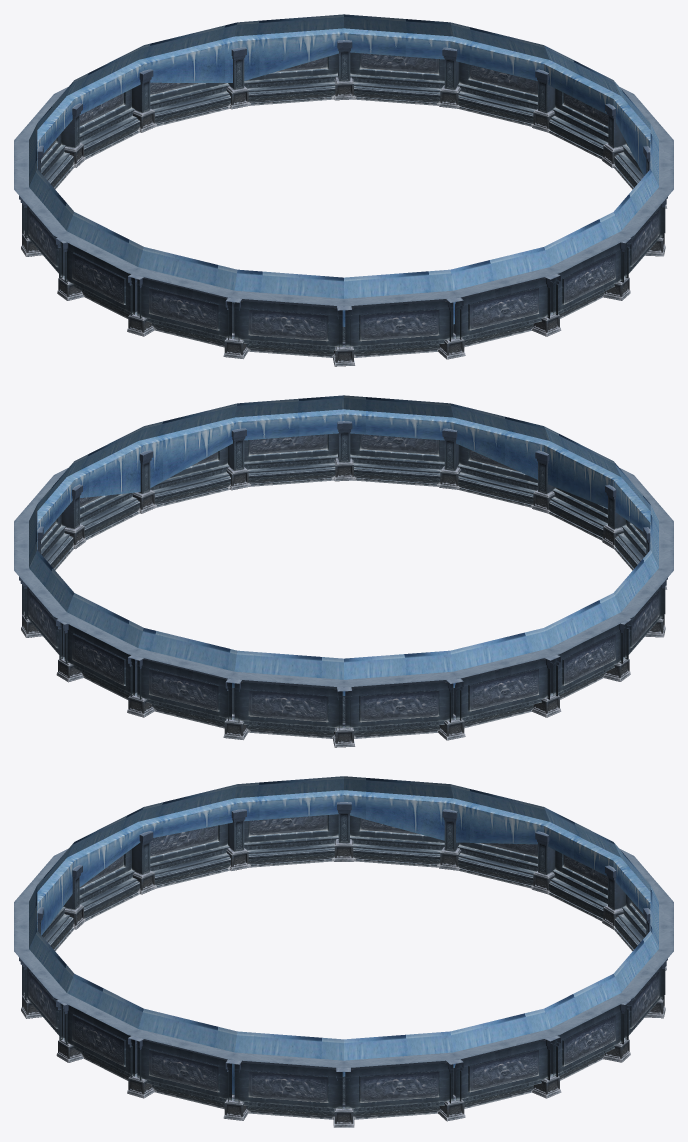
Rendered from BingYingZhong_QiangMian_1.FBX.
3 views of the same model, one above another, from view 1: azimuth 30°, elevation 25°; view 2: azimuth 150°, elevation 25°; view 3: azimuth 270°, elevation 25° (orthographic).
Parts seen in each view (by area): view 1: BingYingZhong_Qiang_2, BingYingZhong_Xue_1, BingYingZhong_ShiZhu_2; view 2: BingYingZhong_Qiang_2, BingYingZhong_Xue_1, BingYingZhong_ShiZhu_2; view 3: BingYingZhong_Qiang_2, BingYingZhong_Xue_1, BingYingZhong_ShiZhu_2.
Part boxes in pixels (x1=…): BingYingZhong_Qiang_2: x1=14, y1=40, x2=673, y2=357; BingYingZhong_Xue_1: x1=29, y1=14, x2=658, y2=326; BingYingZhong_ShiZhu_2: x1=21, y1=77, x2=666, y2=366; BingYingZhong_Qiang_2: x1=14, y1=421, x2=673, y2=738; BingYingZhong_Xue_1: x1=29, y1=395, x2=658, y2=695; BingYingZhong_ShiZhu_2: x1=21, y1=458, x2=666, y2=747; BingYingZhong_Qiang_2: x1=14, y1=802, x2=673, y2=1119; BingYingZhong_Xue_1: x1=29, y1=776, x2=658, y2=1094; BingYingZhong_ShiZhu_2: x1=21, y1=839, x2=666, y2=1127.
Size of the model in its own units: 5282 by 720 by 5201.
